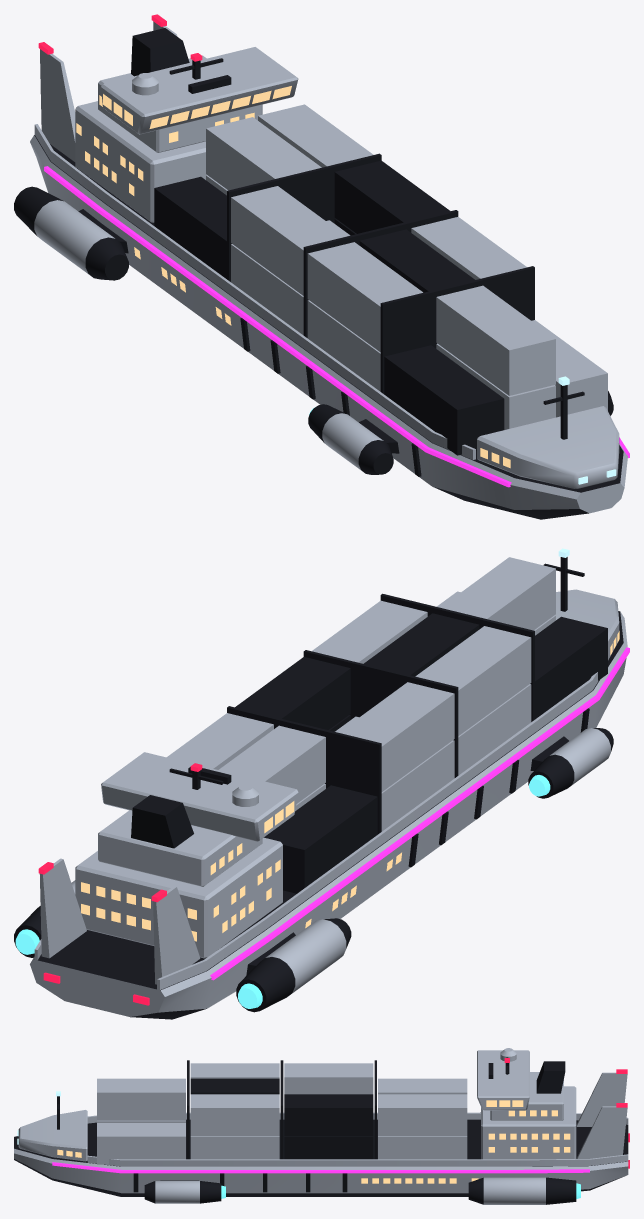
File: vehicles.glb
3 views of the same model, one above another, from view 1: azimuth 30°, elevation 25°; view 2: azimuth 150°, elevation 25°; view 3: azimuth 270°, elevation 25° (orthographic). The views are drawn at different scales.
Visible parts, largest first — view 1: Freighter; view 2: Freighter; view 3: Freighter.
Boxes of the visible parts, x1=… form: Freighter: x1=14, y1=14, x2=629, y2=519; Freighter: x1=14, y1=548, x2=629, y2=1019; Freighter: x1=14, y1=1048, x2=629, y2=1204.
Bounding box in the file's own units: 11.97 × 9 × 40.1.
